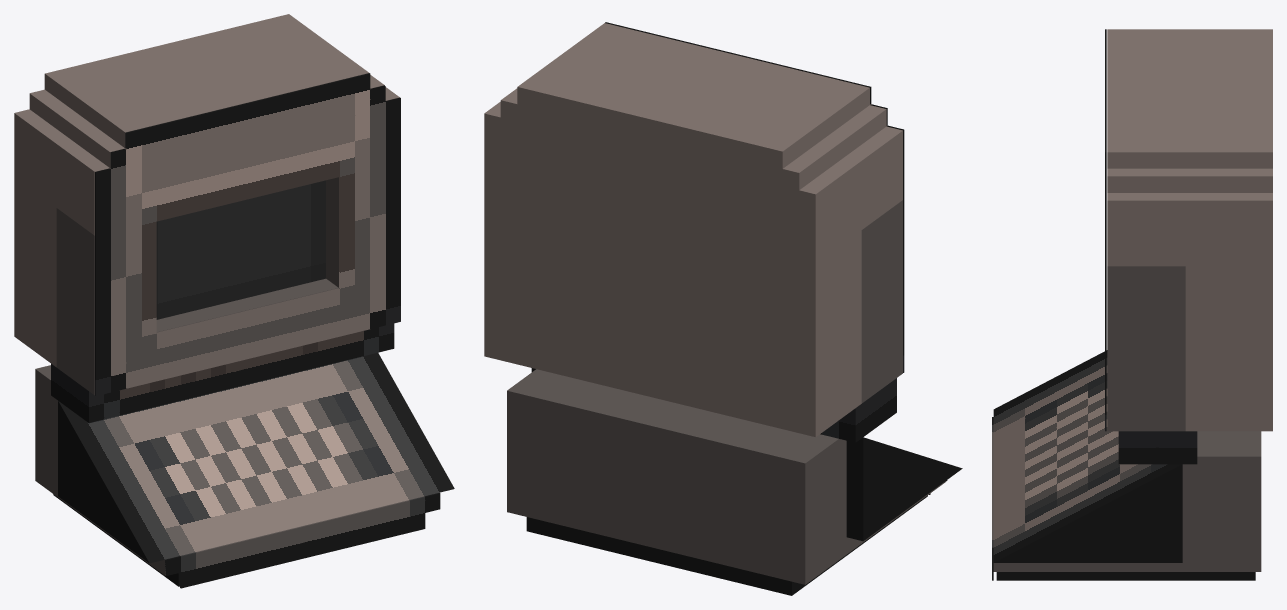
Rendered from CMU3DRMCPropComputerLarge0.glb.
3 views of the same model, side by side, from view 1: azimuth 30°, elevation 25°; view 2: azimuth 150°, elevation 25°; view 3: azimuth 270°, elevation 25° (orthographic). The views are drawn at different scales.
Parts seen in each view (by area): view 1: original stepped monitor face, sloping original keyboard deck, rounded crown step, recessed display glass, monitor rear casing, hinge rail, original front base bevel, left bezel housing, lower bezel housing, upper bezel housing, stepped upper casing, rear keyboard platform (+2 smaller); view 2: monitor rear casing, rear keyboard platform, rounded crown step, stepped upper casing, sloping original keyboard deck, keyboard underside, left bezel housing, source-width supporting foot, upper bezel housing, lower bezel housing, hinge rail, original stepped monitor face; view 3: sloping original keyboard deck, rounded crown step, monitor rear casing, rear keyboard platform, right bezel housing, upper bezel housing, stepped upper casing, lower bezel housing, keyboard underside, hinge rail, source-width supporting foot, original stepped monitor face.
Boxes of the visible parts, x1,y1,x2,y2 form: original stepped monitor face: (95,73,400,395); sloping original keyboard deck: (58,353,454,563); rounded crown step: (44,14,368,147); recessed display glass: (156,180,325,319); monitor rear casing: (14,109,71,367); hinge rail: (51,323,394,422); original front base bevel: (165,492,440,588); left bezel housing: (56,208,94,347); lower bezel housing: (56,278,338,395); upper bezel housing: (56,87,399,235); stepped upper casing: (29,75,384,167); rear keyboard platform: (35,365,57,480); monitor rear casing: (484,102,861,437); rear keyboard platform: (507,369,846,567); rounded crown step: (517,23,869,168); stepped upper casing: (500,88,886,190); sloping original keyboard deck: (531,368,962,541); keyboard underside: (507,481,946,584); left bezel housing: (861,200,902,351); source-width supporting foot: (526,495,927,595); upper bezel housing: (845,126,902,229); lower bezel housing: (861,321,902,403); hinge rail: (820,378,896,442); original stepped monitor face: (605,22,904,372); sloping original keyboard deck: (993,350,1182,562); rounded crown step: (1107,29,1272,168); monitor rear casing: (1185,193,1272,431); rear keyboard platform: (1182,431,1261,555); right bezel housing: (1107,266,1185,381); upper bezel housing: (1107,193,1185,266); stepped upper casing: (1107,168,1272,192); lower bezel housing: (1107,381,1185,431); keyboard underside: (993,555,1261,571); hinge rail: (1118,431,1197,464); source-width supporting foot: (996,572,1255,580); original stepped monitor face: (1105,29,1106,431).
Size of the model in its own units: 0.625 by 0.8125 by 0.483.
8 materials, 5 textured.
